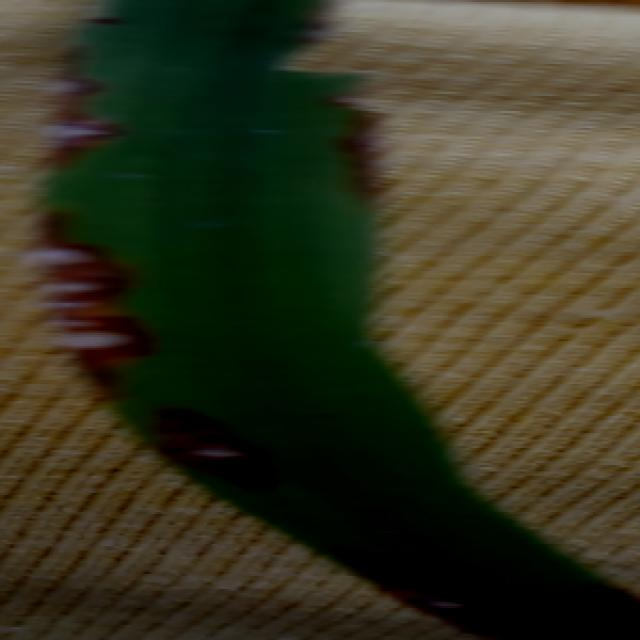Brown_Spot: (60, 241, 182, 371)
